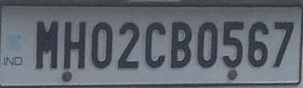character: (33, 18, 58, 70), (63, 19, 85, 70), (116, 22, 139, 69), (169, 20, 192, 67), (222, 20, 244, 67), (196, 21, 218, 67), (91, 22, 112, 69), (144, 21, 165, 67), (272, 20, 292, 68), (246, 21, 267, 66)
